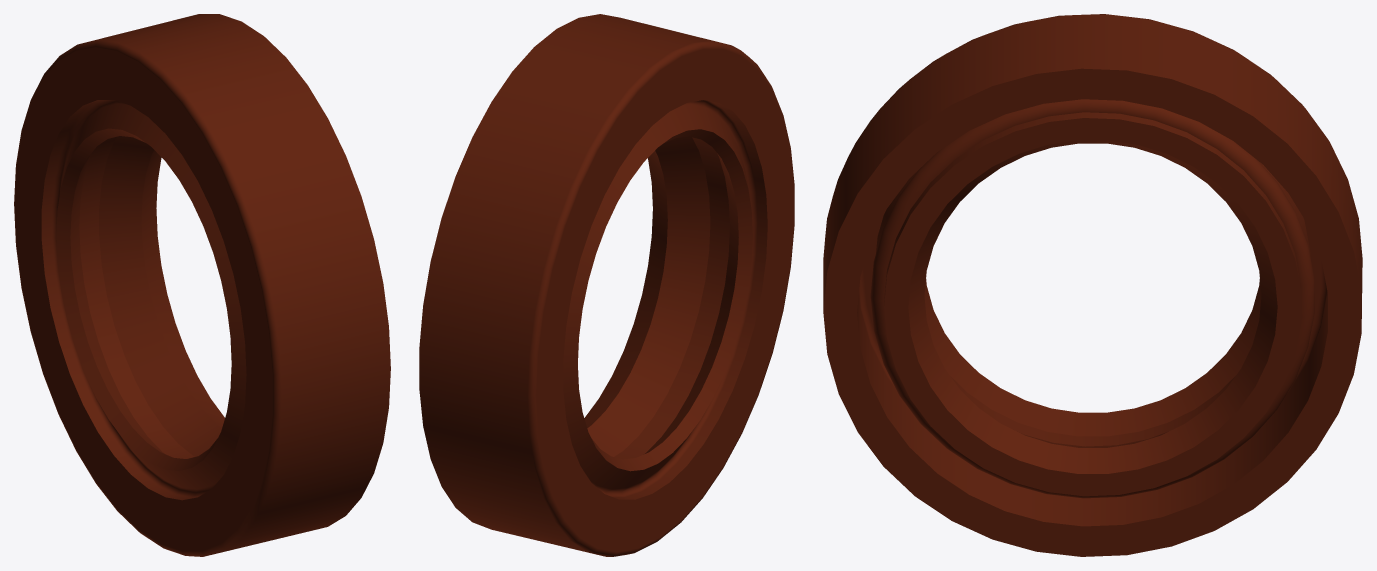
The model's file is oil-seals.glb.
3 views of the same model, side by side, from view 1: azimuth 30°, elevation 25°; view 2: azimuth 150°, elevation 25°; view 3: azimuth 270°, elevation 25° (orthographic). The views are drawn at different scales.
Visible parts, largest first — view 1: Object_2; view 2: Object_2; view 3: Object_2.
Boxes of the visible parts, x1=… form: Object_2: x1=14, y1=14, x2=390, y2=556; Object_2: x1=419, y1=14, x2=794, y2=556; Object_2: x1=823, y1=14, x2=1362, y2=556.
Bounding box in the file's own units: 4 × 15.99 × 16.
